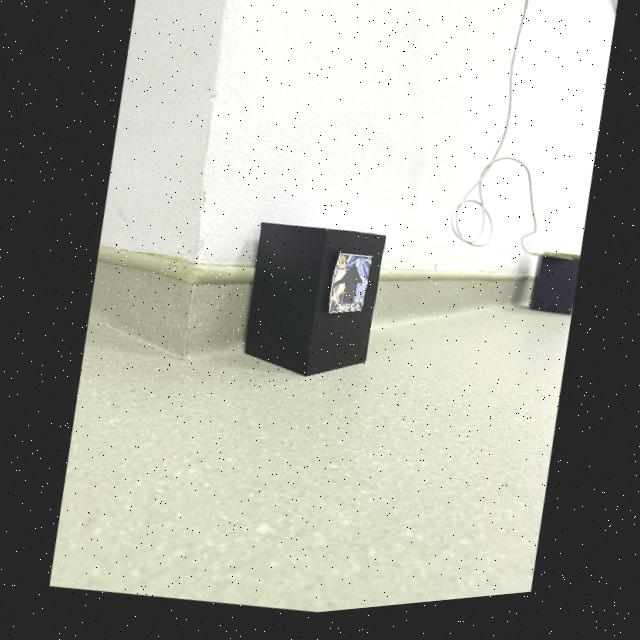UP: (335, 270, 361, 311)
